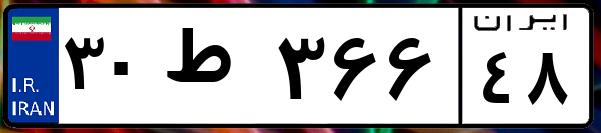0: (110, 28, 158, 98)
3: (270, 28, 330, 110), (57, 26, 110, 100)
4: (475, 38, 525, 113)
6: (385, 28, 445, 110), (330, 28, 385, 110)
8: (525, 38, 570, 115)
ط: (158, 20, 270, 120)
